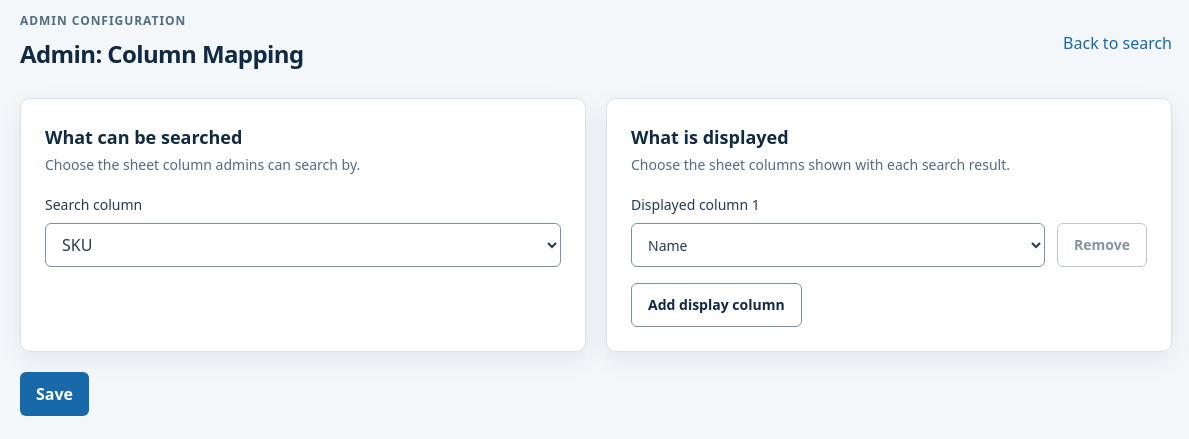
Test case: AdminPage › shows network error status when POST fetch is rejected
Expected: the dropdown labelled "Search column" is shown, [45,223,561,267]
Click the button "Save" at (54, 394), box [20,372,89,416]
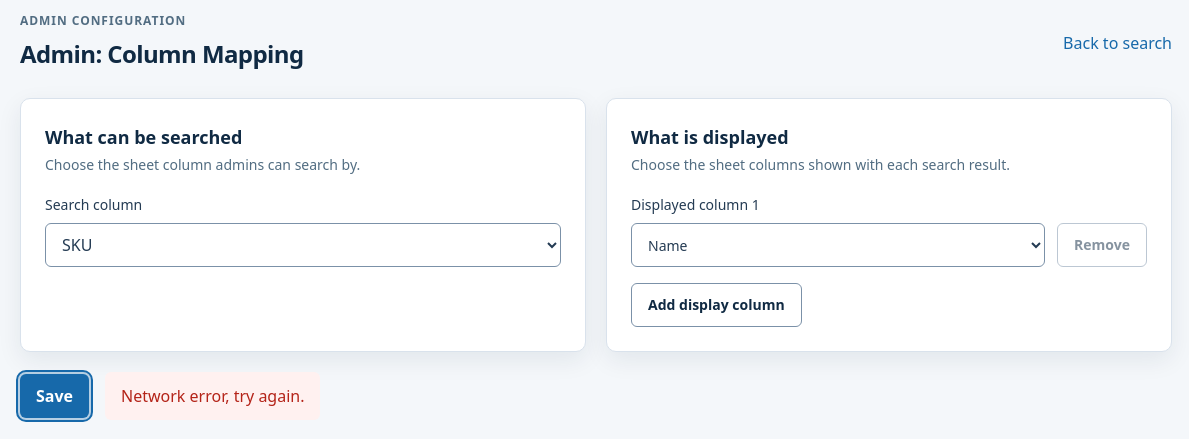
Result: the text "Network error, try again." is shown at [105,372,320,420]
